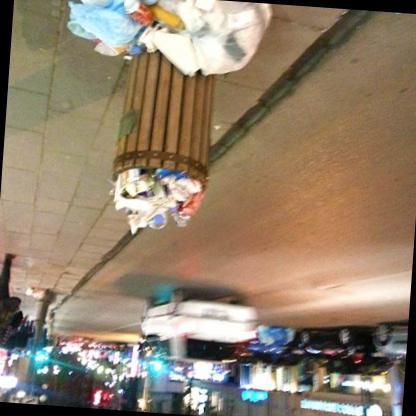Garbage: (153, 0, 270, 89), (48, 0, 166, 73), (107, 167, 207, 242), (185, 0, 264, 81), (69, 0, 166, 45), (155, 22, 200, 77), (127, 201, 168, 236), (112, 166, 152, 201), (116, 186, 154, 214), (92, 31, 126, 60), (166, 180, 206, 202), (179, 194, 207, 223), (160, 165, 194, 182), (129, 40, 147, 67)
